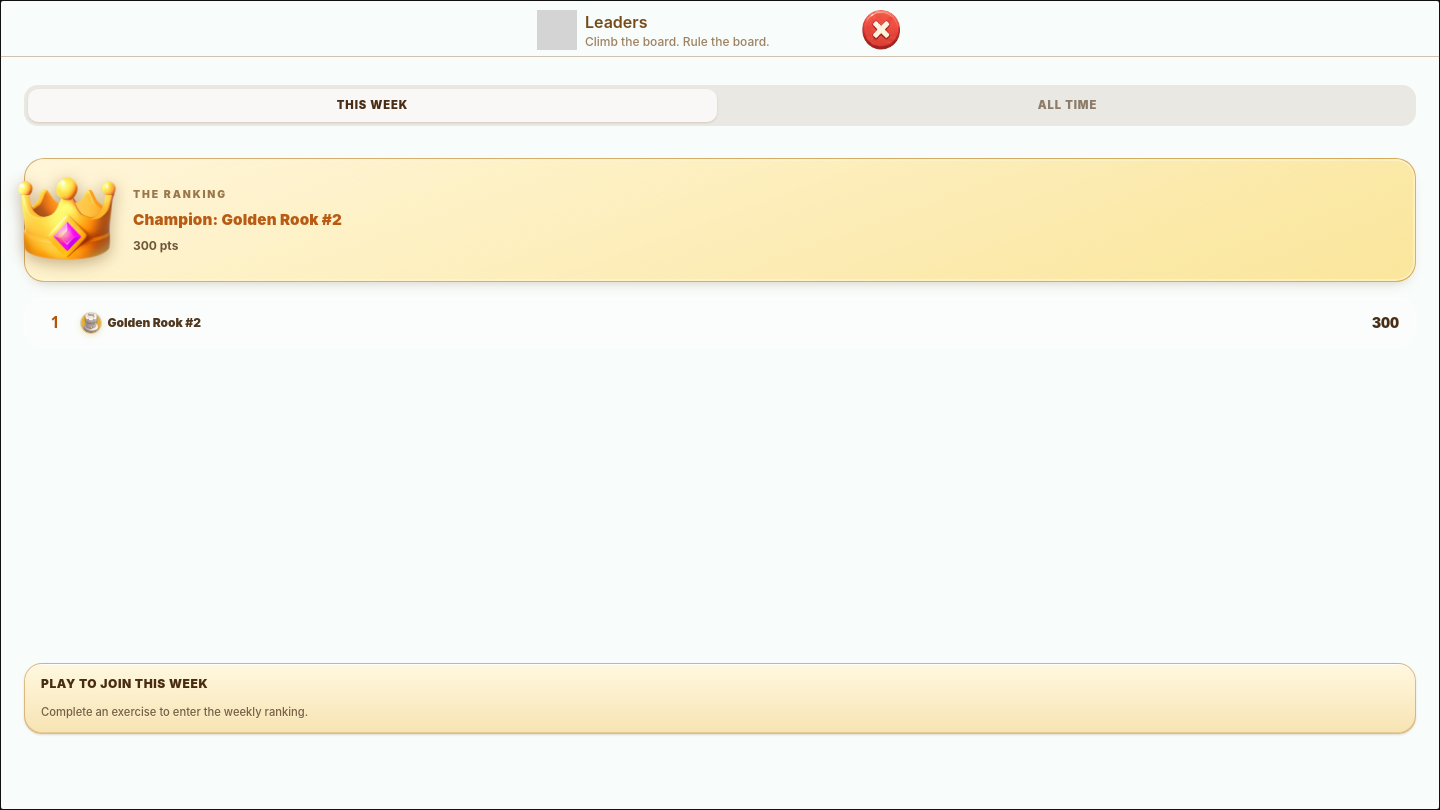
Scenario: optimistic row (UI-16, UI-17, UI-18) › does not double-append after a tab switch
The image size is (1440, 810).
Expected: the text "300" is shown, left=1372, top=313, right=1399, bottom=333
Click the tab "ALL TIME" at (1068, 105), box left=723, top=89, right=1412, bottom=122
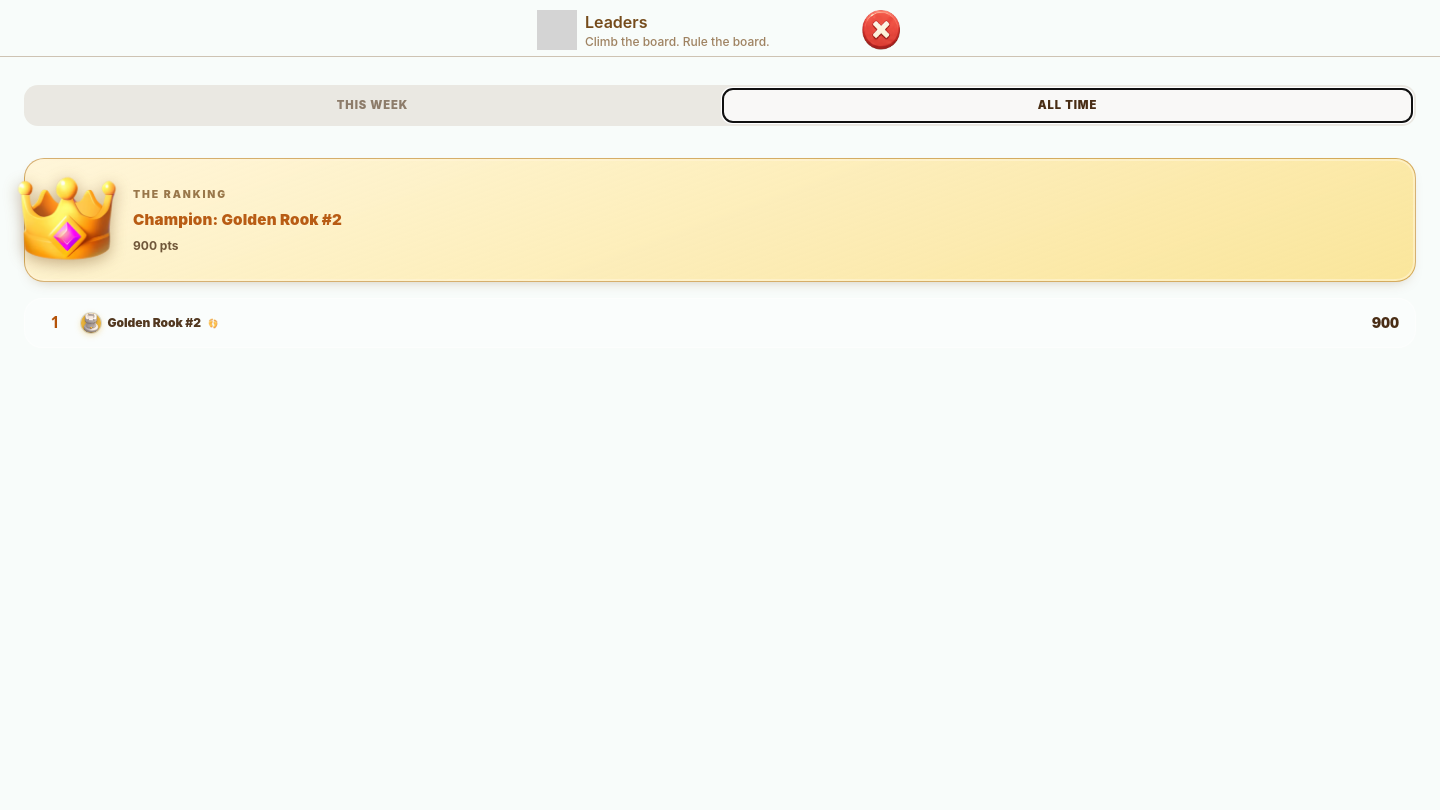
Now the text "900" is shown, box left=1372, top=313, right=1399, bottom=333
